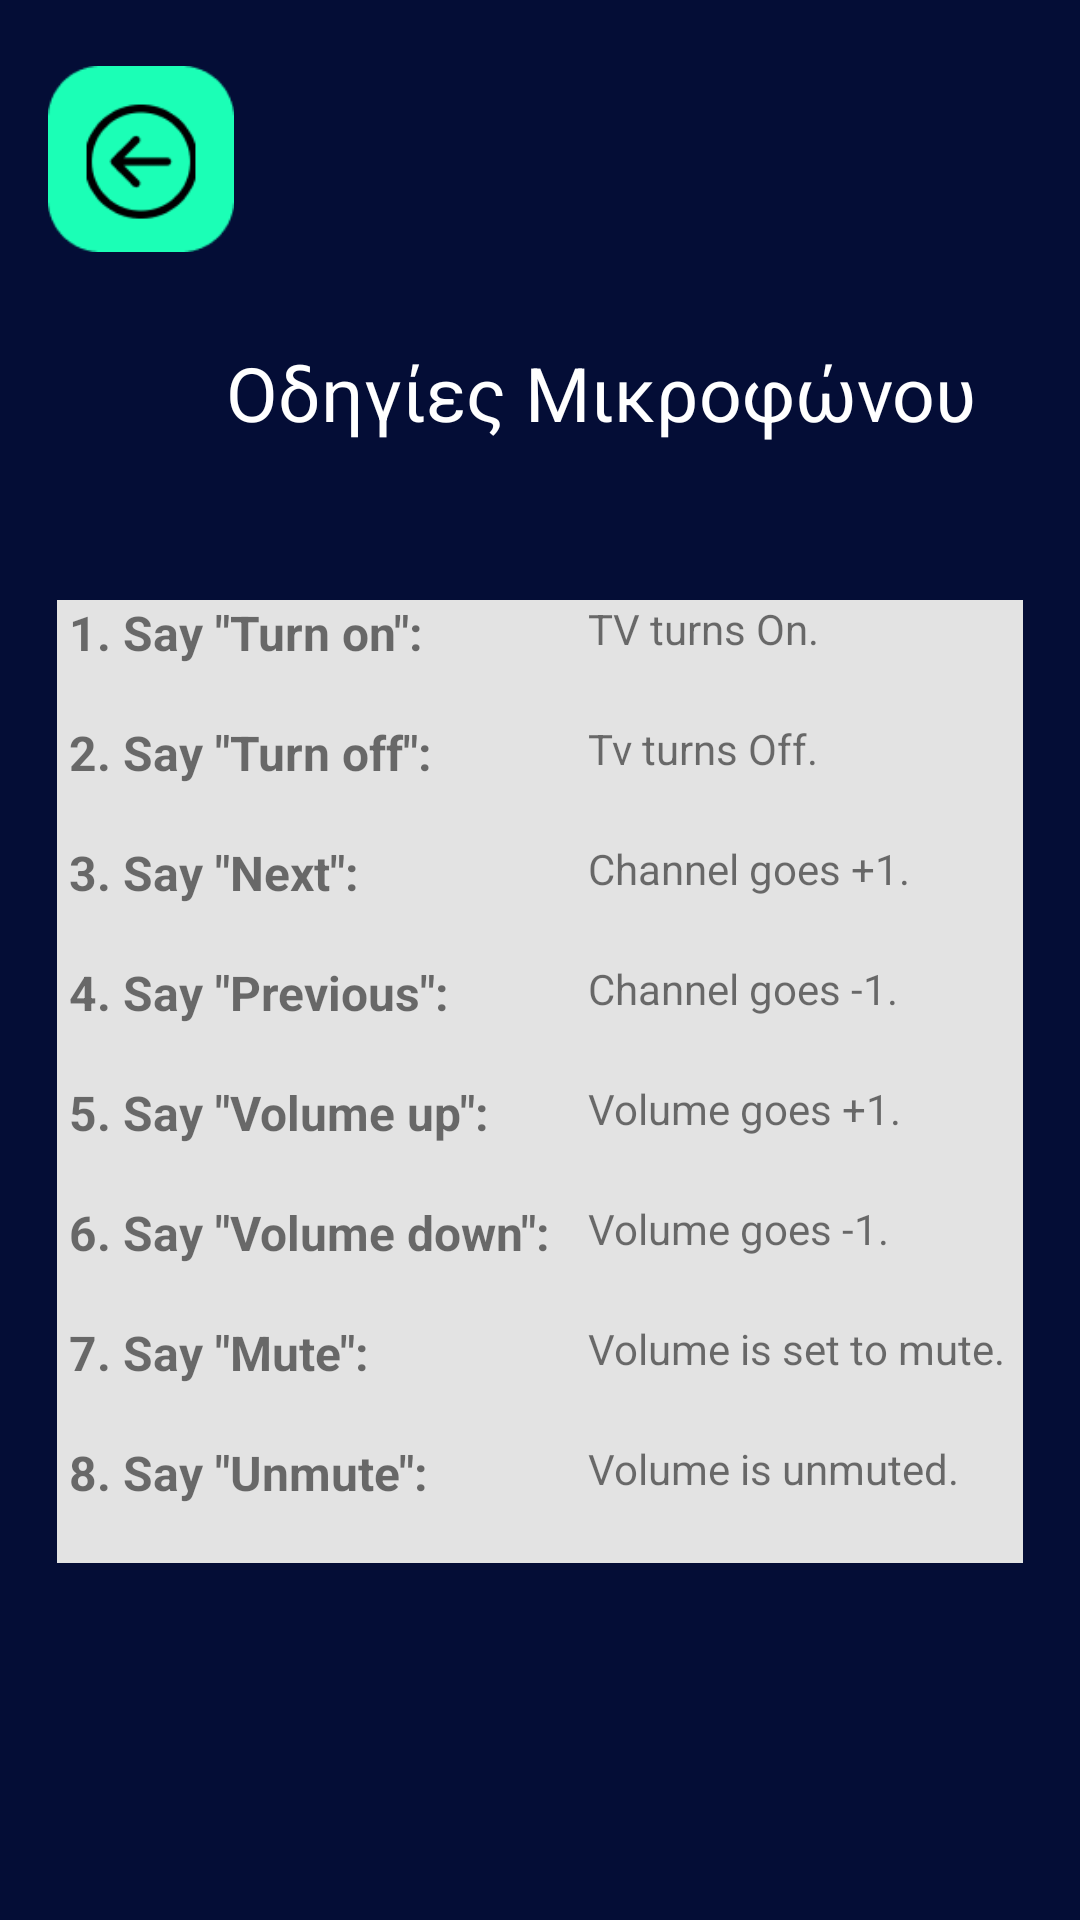

Icon bounding boxes for this 1080px x 1920px phone screenshot, format (x1, y1, x2, y2):
back: (48, 66, 234, 252)
